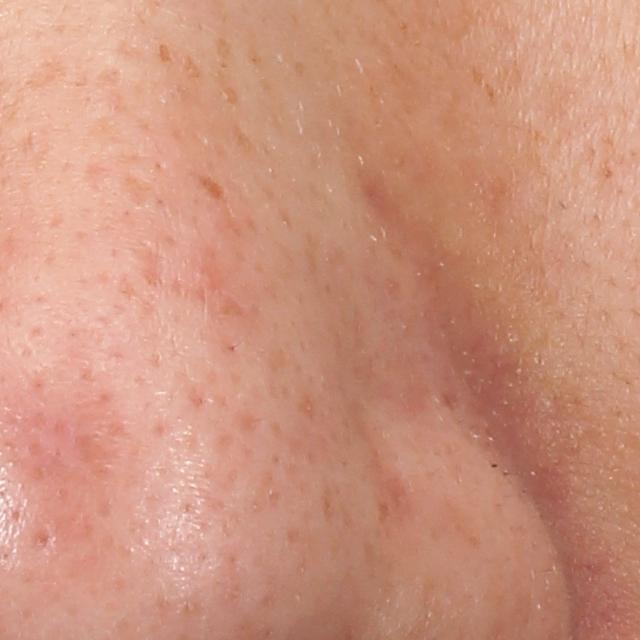atrophic_scar: (128, 241, 171, 288)
melasma: (179, 50, 207, 82), (153, 43, 174, 69), (215, 35, 235, 61)
